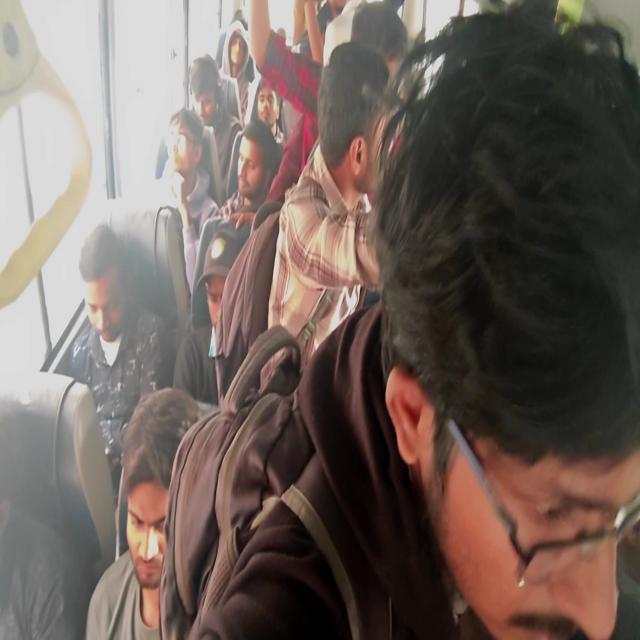person: (383, 77, 640, 638), (89, 375, 194, 640), (54, 227, 156, 372), (317, 66, 387, 214), (192, 253, 261, 365), (0, 444, 31, 640), (362, 0, 426, 94), (171, 120, 212, 224), (191, 73, 239, 161), (222, 18, 256, 79), (249, 93, 286, 148), (247, 153, 274, 207), (319, 0, 352, 40)
